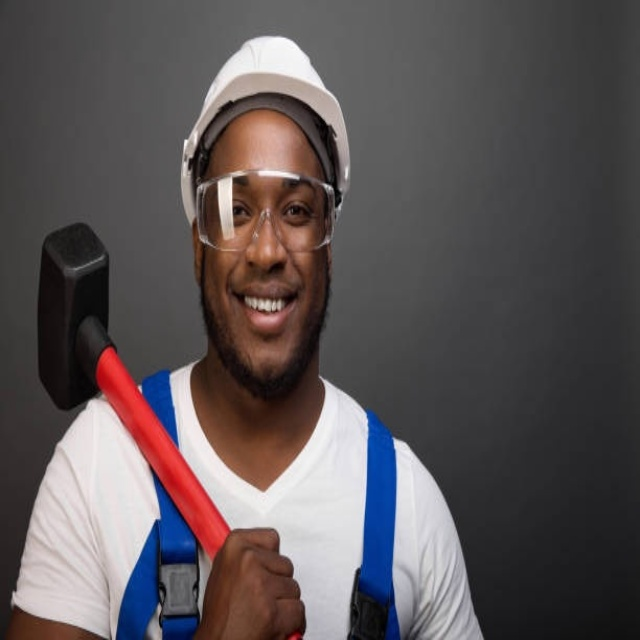Gafas: (193, 169, 339, 253)
Sin_guantes: (197, 527, 306, 640)
Sin_mascara: (228, 276, 303, 362)
